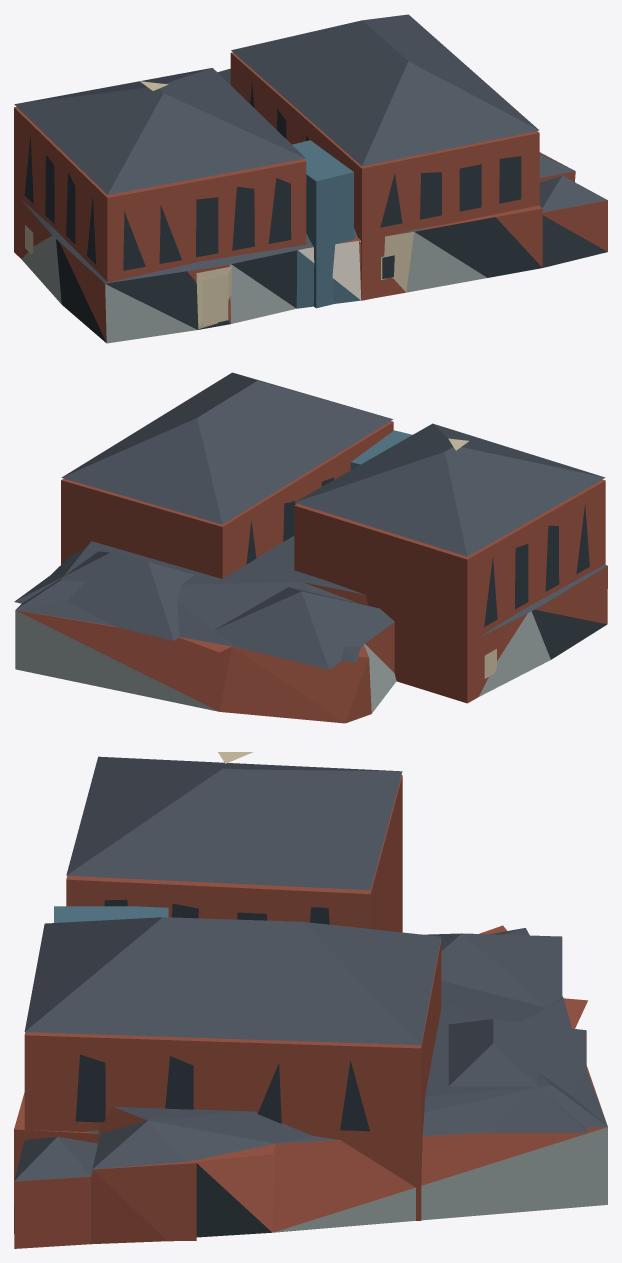
File: jewish-museum.lod2.glb
3 renders of one model, top to bottom at view 1: azimuth 30°, elevation 25°; view 2: azimuth 150°, elevation 25°; view 3: azimuth 270°, elevation 25°, orthographic. The views are drawn at different scales.
Visible parts, largest first — view 1: lod2; view 2: lod2; view 3: lod2.
Boxes of the visible parts, <box> form: lod2: <box>14,14,607,343</box>; lod2: <box>14,372,607,723</box>; lod2: <box>14,752,607,1248</box>.
Bounding box in the file's own units: 49.66 × 19.75 × 41.5.
